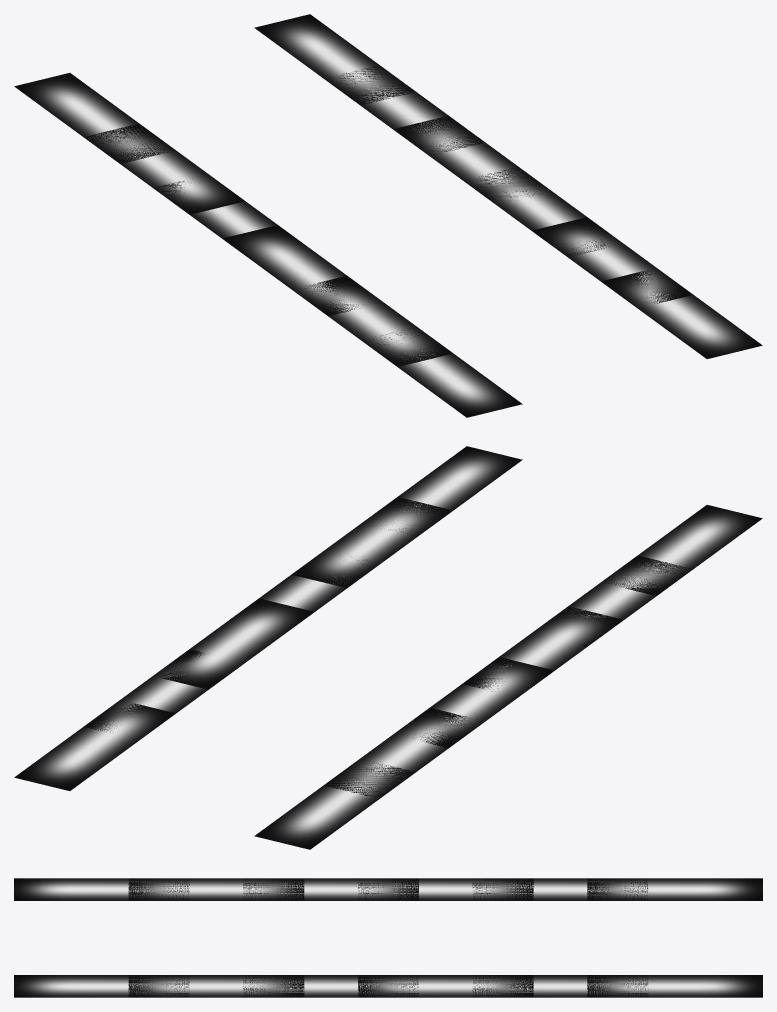
The model's file is cyberzoo_lighting_glow.dae.
3 renders of one model, top to bottom at view 1: azimuth 30°, elevation 25°; view 2: azimuth 150°, elevation 25°; view 3: azimuth 270°, elevation 25°, orthographic. The views are drawn at different scales.
Visible parts, largest first — view 1: instance_4, instance_10, instance_5, instance_1, instance_12, instance_6, instance_3, instance_9, instance_8, instance_2, instance_11, instance_7; view 2: instance_9, instance_6, instance_4, instance_5, instance_2, instance_10, instance_7, instance_3, instance_12, instance_1, instance_8, instance_11; view 3: instance_9, instance_1, instance_5, instance_4, instance_6, instance_7, instance_3, instance_2, instance_12, instance_8, instance_10, instance_11.
Boxes of the visible parts, x1,y1,x2,y2 form: instance_4: (254, 14, 415, 105); instance_10: (84, 123, 245, 214); instance_5: (14, 73, 174, 163); instance_1: (301, 275, 452, 366); instance_12: (601, 270, 762, 358); instance_6: (393, 115, 550, 201); instance_3: (222, 225, 358, 316); instance_9: (531, 217, 693, 303); instance_8: (325, 65, 485, 155); instance_2: (362, 327, 522, 417); instance_11: (470, 166, 610, 257); instance_7: (155, 178, 313, 251); instance_9: (291, 497, 452, 588); instance_6: (157, 598, 314, 689); instance_4: (14, 703, 175, 790); instance_5: (254, 759, 415, 849); instance_2: (603, 505, 762, 595); instance_10: (324, 707, 472, 798); instance_7: (413, 657, 554, 748); instance_3: (462, 606, 623, 691); instance_12: (362, 446, 522, 537); instance_1: (553, 555, 691, 646); instance_8: (83, 649, 208, 732); instance_11: (259, 553, 378, 611); instance_9: (128, 975, 304, 997); instance_1: (128, 878, 304, 900); instance_5: (587, 878, 762, 900); instance_4: (587, 975, 762, 997); instance_6: (358, 975, 533, 997); instance_7: (358, 878, 533, 900); instance_3: (243, 878, 418, 900); instance_2: (14, 878, 189, 900); instance_12: (14, 975, 189, 997); instance_8: (472, 975, 648, 997); instance_10: (472, 878, 648, 900); instance_11: (243, 975, 418, 997).
Bounding box in the file's own units: 146 × 386 × 0.
1 material, 1 textured.
